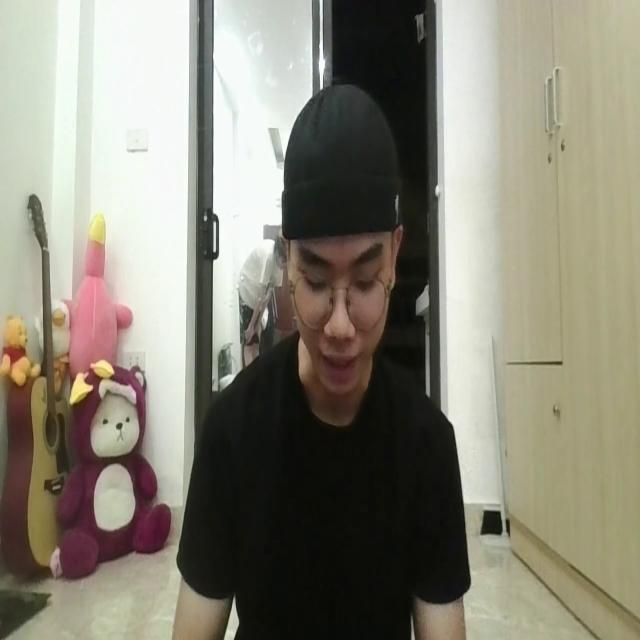student: (181, 75, 468, 640)
